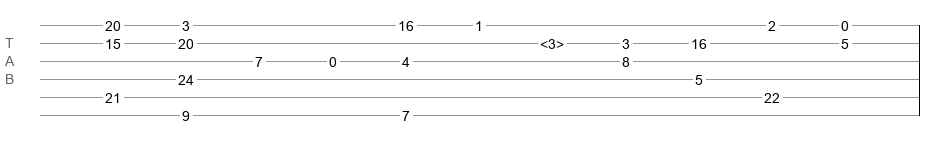0: (329, 54, 337, 64), (841, 18, 849, 28)
1: (475, 18, 483, 28)
15: (105, 36, 121, 46)
16: (398, 18, 414, 28), (691, 36, 707, 46)
2: (768, 18, 776, 28)
20: (105, 18, 121, 28), (178, 36, 194, 46)
21: (105, 90, 121, 100)
22: (764, 90, 780, 100)
24: (178, 72, 194, 82)
3: (182, 18, 190, 28), (622, 36, 630, 46)
4: (402, 54, 410, 64)
5: (695, 72, 703, 82), (841, 36, 849, 46)
7: (255, 54, 263, 64), (402, 108, 410, 118)
8: (622, 54, 630, 64)
9: (182, 108, 190, 118)
harmonic: (540, 36, 564, 46)
